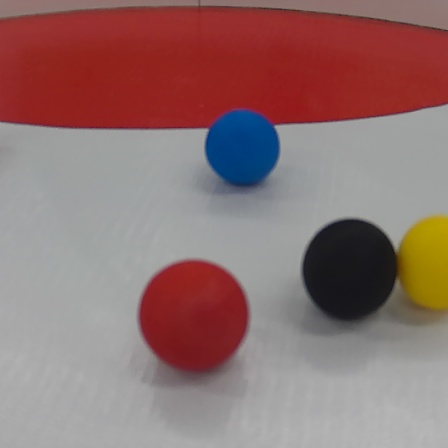black: (301, 214, 396, 323)
blue: (205, 105, 281, 185)
red: (135, 259, 252, 373)
red_base: (1, 5, 448, 128)
yellow: (397, 214, 447, 312)
